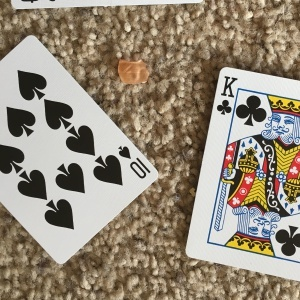card: (1, 34, 161, 266)
